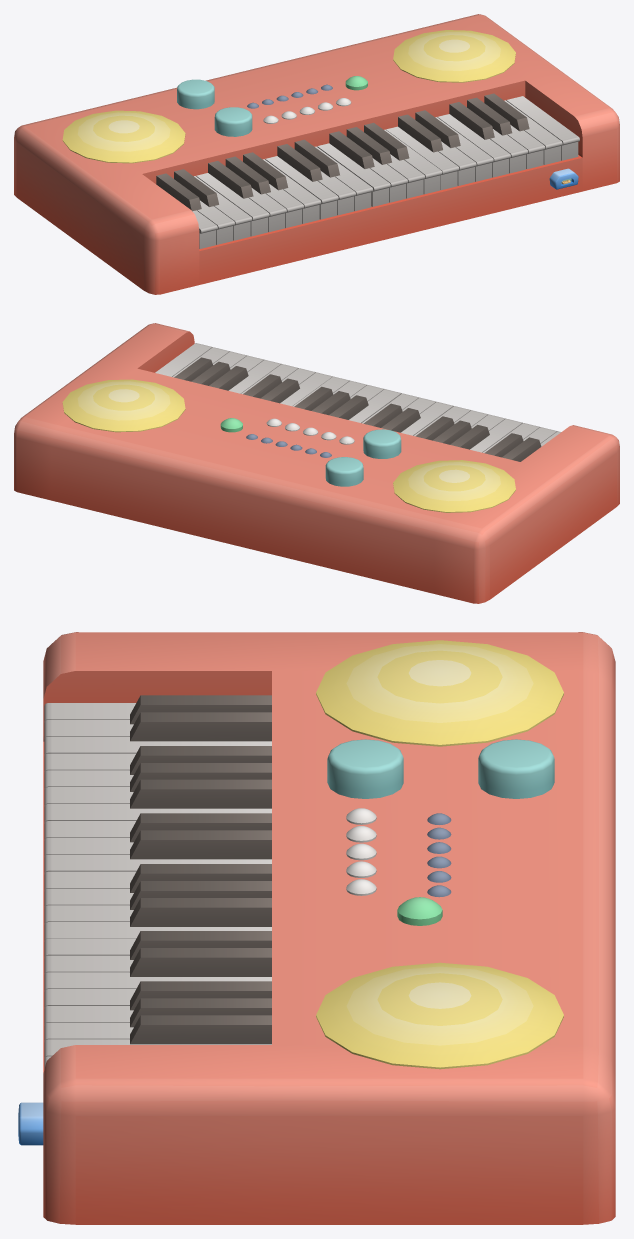
The model's file is piano.fbx.
3 renders of one model, top to bottom at view 1: azimuth 30°, elevation 25°; view 2: azimuth 150°, elevation 25°; view 3: azimuth 270°, elevation 25°, orthographic. The views are drawn at different scales.
Parts seen in each view (by area): view 1: piano, MICRO_port_blue_piano; view 2: piano; view 3: piano, MICRO_port_blue_piano.
Boxes of the visible parts, x1,y1,x2,y2 form: piano: (14, 14, 619, 294); MICRO_port_blue_piano: (549, 168, 578, 189); piano: (14, 323, 619, 603); piano: (43, 632, 615, 1224); MICRO_port_blue_piano: (18, 1102, 43, 1145).
Size of the model in its own units: 454 by 76.82 by 248.
